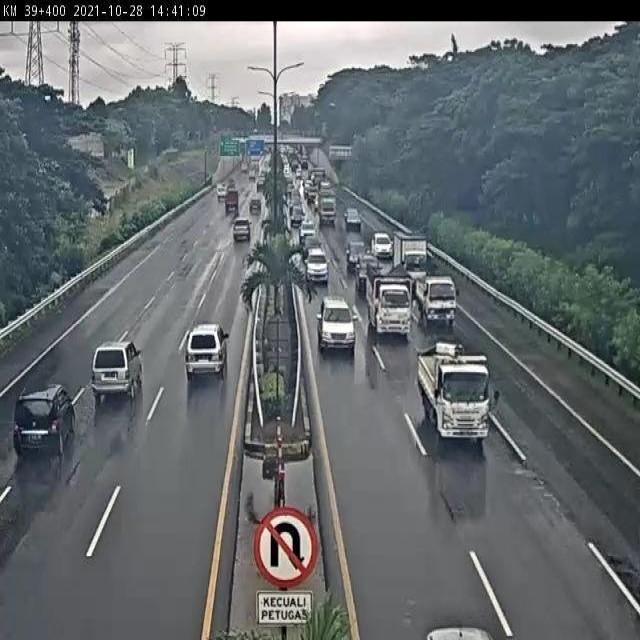Car: (13, 383, 77, 458), (90, 339, 144, 404), (186, 323, 230, 380), (316, 296, 356, 354), (354, 255, 383, 290), (304, 248, 328, 284), (345, 240, 366, 274), (370, 232, 393, 260), (232, 218, 251, 242), (344, 208, 362, 232), (300, 218, 316, 244), (290, 204, 304, 228), (249, 196, 261, 213), (216, 184, 227, 202), (256, 171, 266, 188)
Truck: (416, 342, 499, 446), (365, 265, 412, 335), (413, 273, 458, 328), (392, 231, 432, 284), (318, 188, 338, 227), (224, 188, 240, 214), (248, 170, 256, 181)
